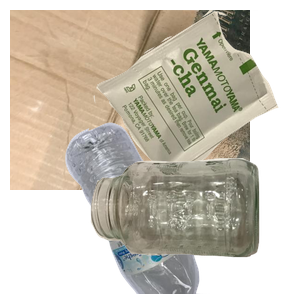cardboard: (10, 10, 250, 190)
glass: (88, 156, 300, 300)
plastic: (63, 120, 263, 300)
trash: (91, 10, 300, 186)
